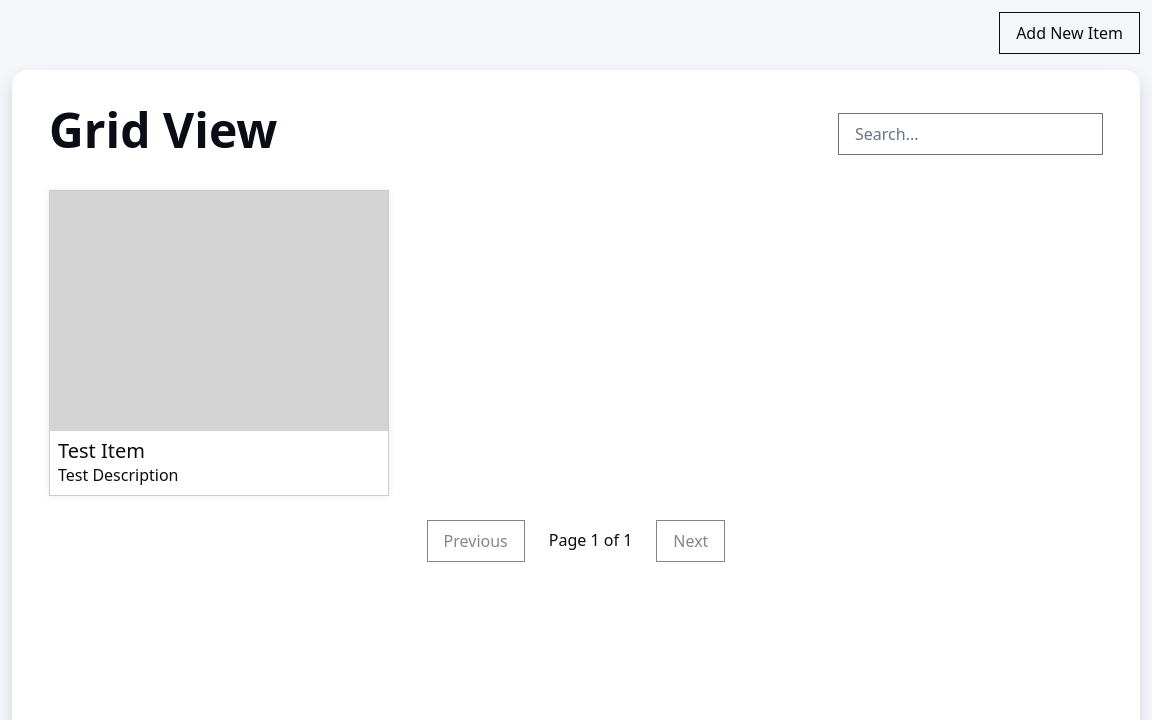
Test: App Component › opens modal when Add New Item button is clicked
This screenshot has width=1152, height=720.
Click the button "Add New Item". click: x=1070, y=33
box: x1=999 y1=12 x2=1140 y2=54
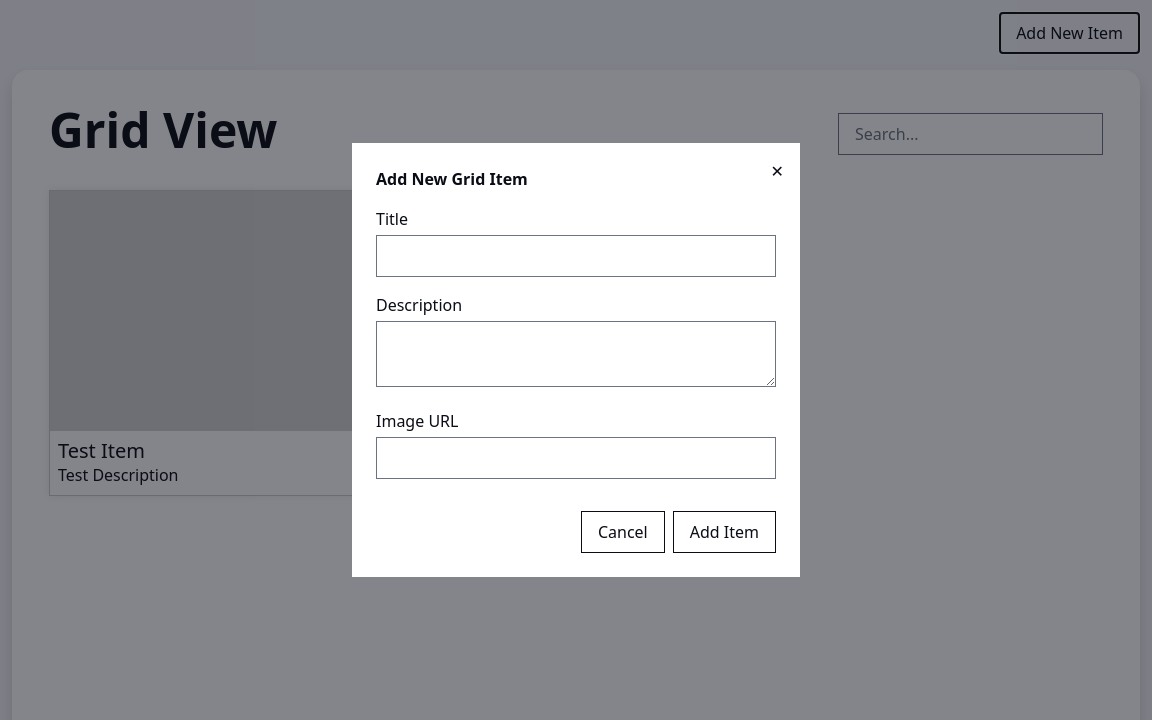
Check: the dialog is shown
